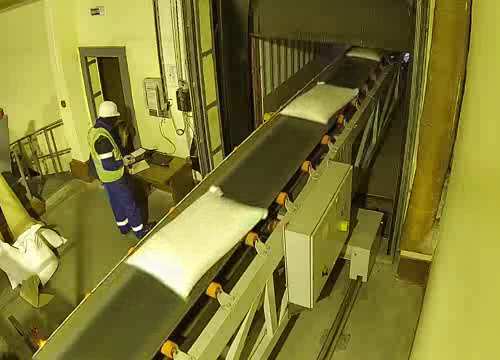bag: (119, 182, 273, 302), (273, 76, 365, 129), (344, 42, 386, 66)
